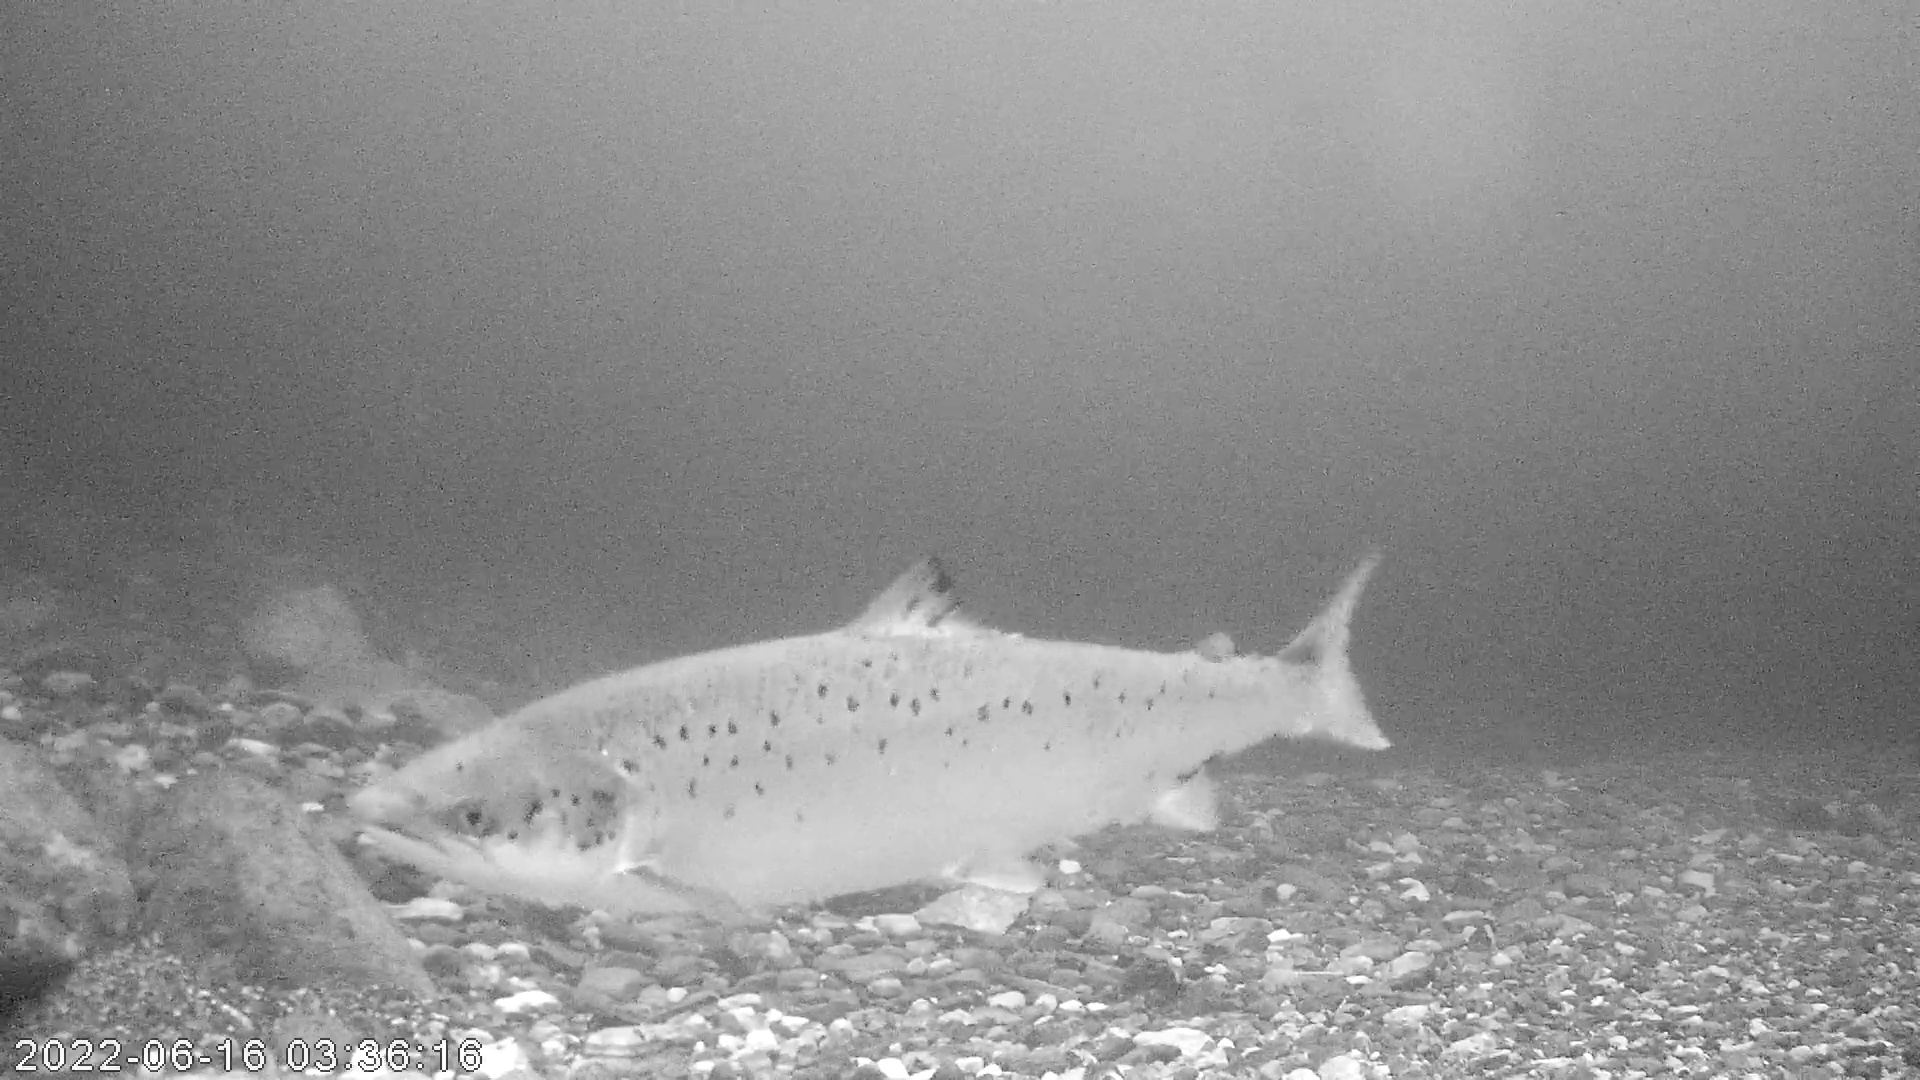salmon: (345, 549, 1394, 920)
